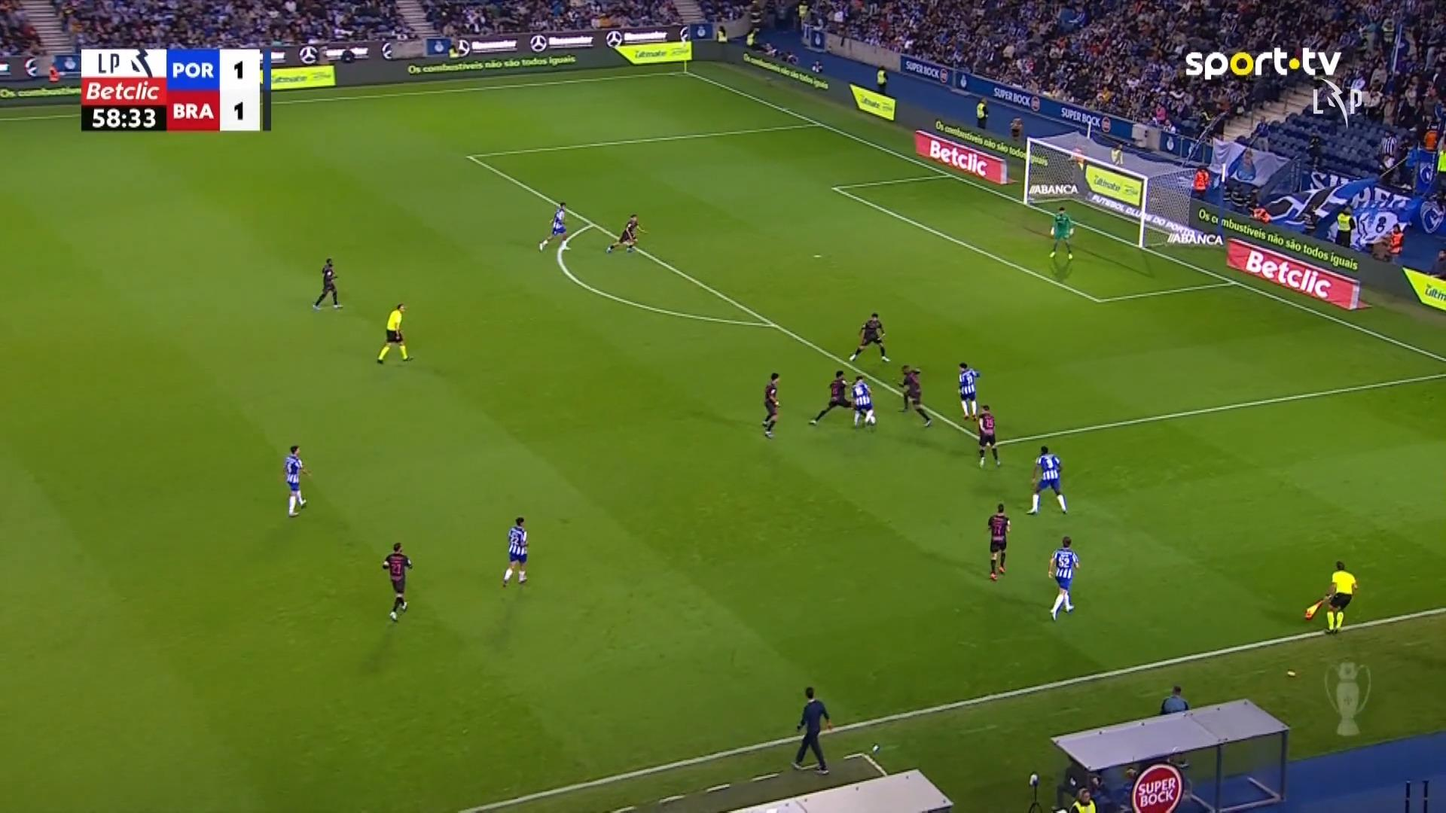ball: (868, 415, 877, 425)
goalkeeper: (1048, 206, 1075, 259)
player: (1025, 444, 1068, 514), (1047, 535, 1080, 622), (381, 541, 413, 622), (808, 369, 853, 425), (896, 364, 932, 428), (847, 311, 891, 363), (282, 445, 310, 517), (501, 516, 529, 587), (986, 502, 1011, 581), (537, 201, 572, 252), (974, 403, 1001, 467), (311, 257, 343, 310), (606, 213, 645, 254), (850, 374, 876, 428), (956, 361, 980, 419), (761, 371, 780, 438)
referee: (1303, 559, 1357, 634), (792, 685, 831, 775), (376, 303, 414, 364)
